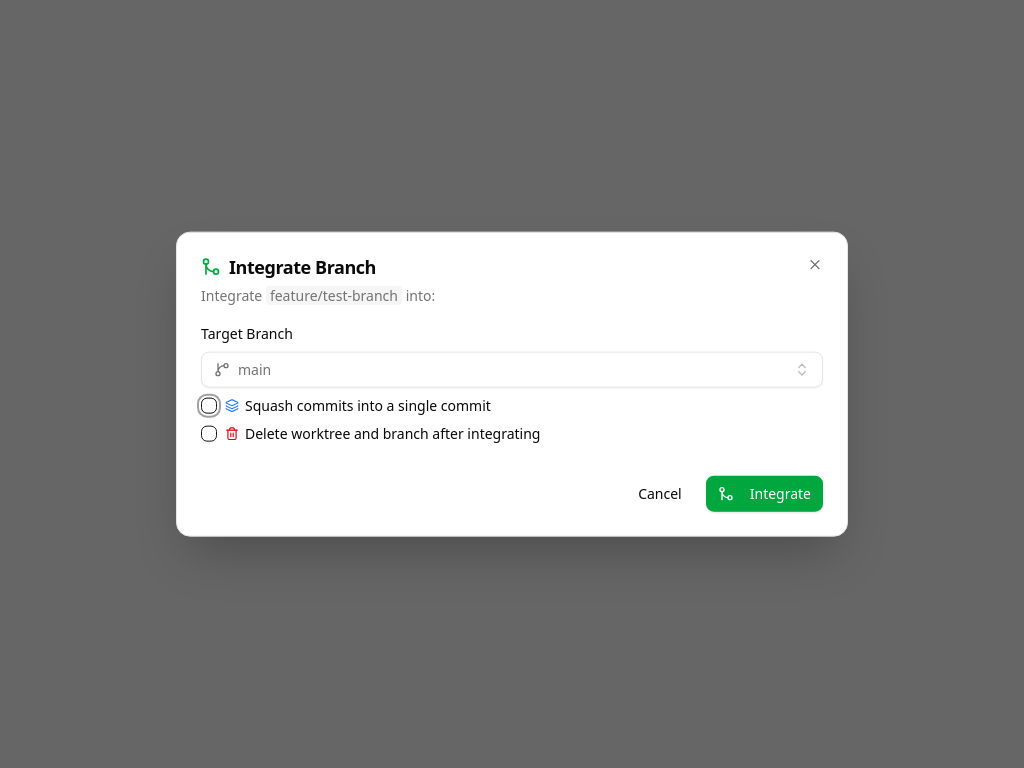
MergeWorktreeDialog - squash mode › shows explanatory text when squash is selected
What coordinates should you click on to do the following:
click the checkbox named "squash commits" next to "Squash commits into a single commit"
I would click on:
 (209, 405)
Its box is [201,397,217,413].
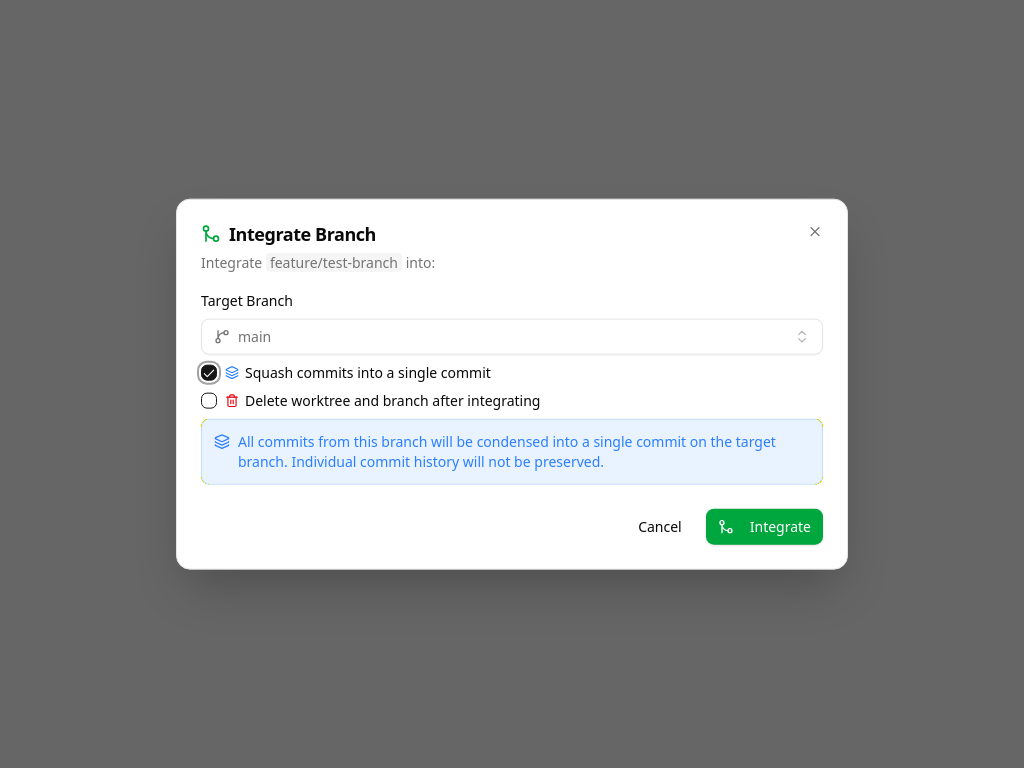
Expected: the text "All commits from this branch will be condensed" is shown, [238,431,776,470]
